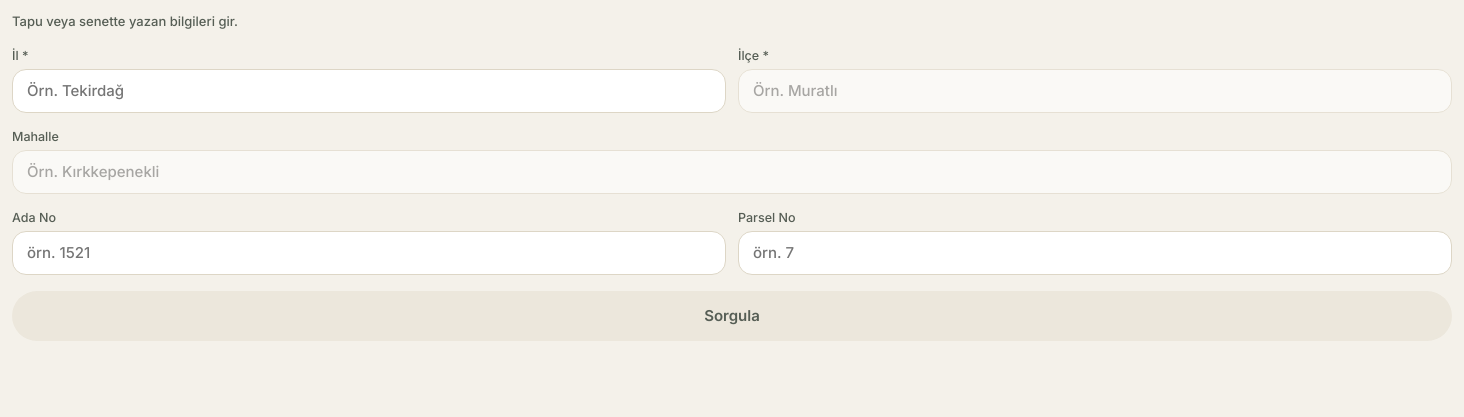
ManualParcelEntryForm › il metni secili degerden uzaklastirilip yeni bir il secilmezse ilce/mahalle secimleri ve listeleri kaskad olarak temizlenir
Type "Adana" into the dropdown labelled "İl *" at (369, 90), box x1=12 y1=68 x2=726 y2=112
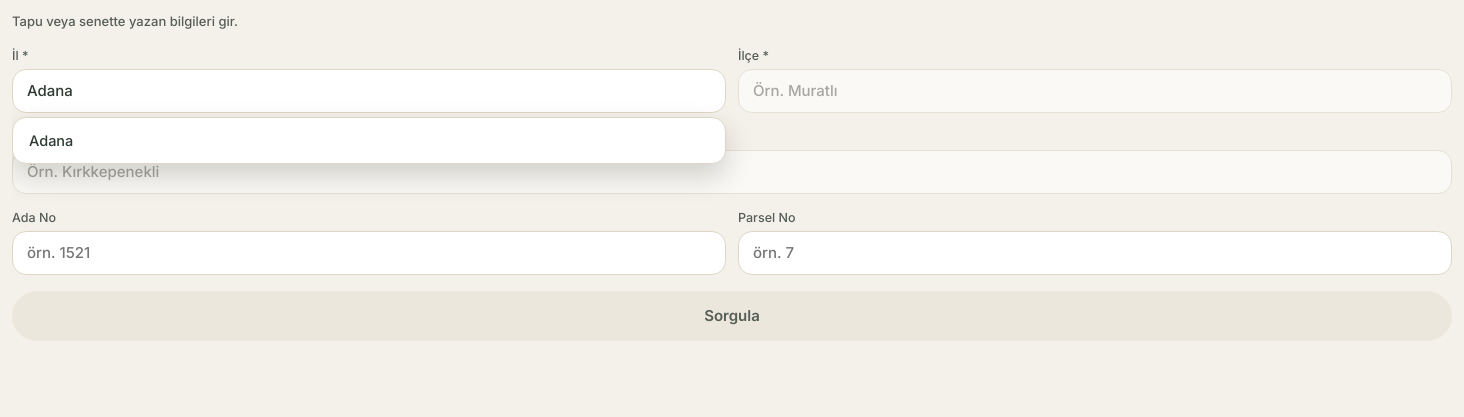
Click the option "Adana" at (51, 140), box x1=29 y1=132 x2=73 y2=148
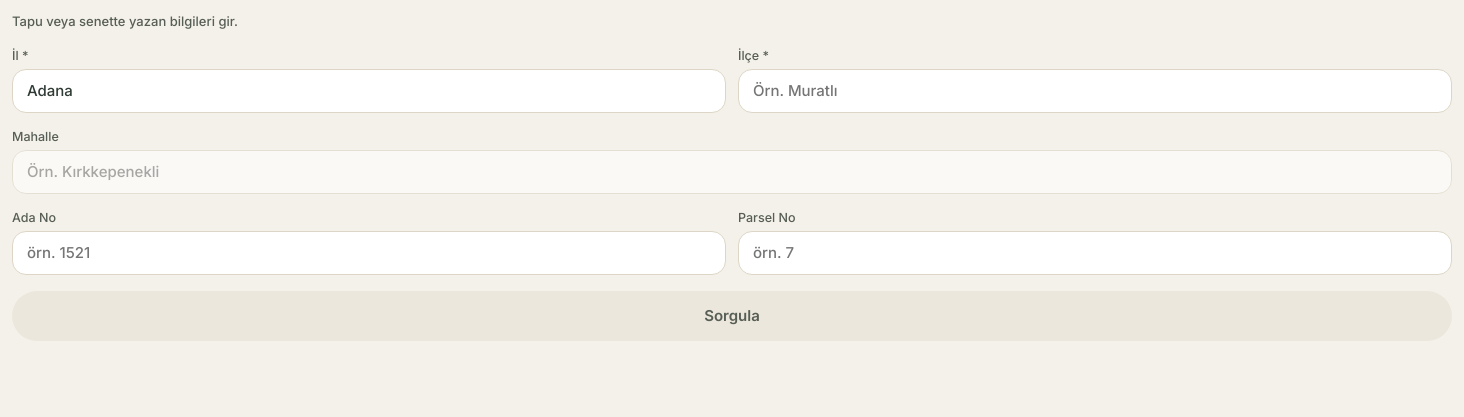
Now the dropdown labelled "İlçe *" is enabled
Type "Aladağ" into the dropdown labelled "İlçe *" at (1095, 90), box x1=738 y1=68 x2=1452 y2=112
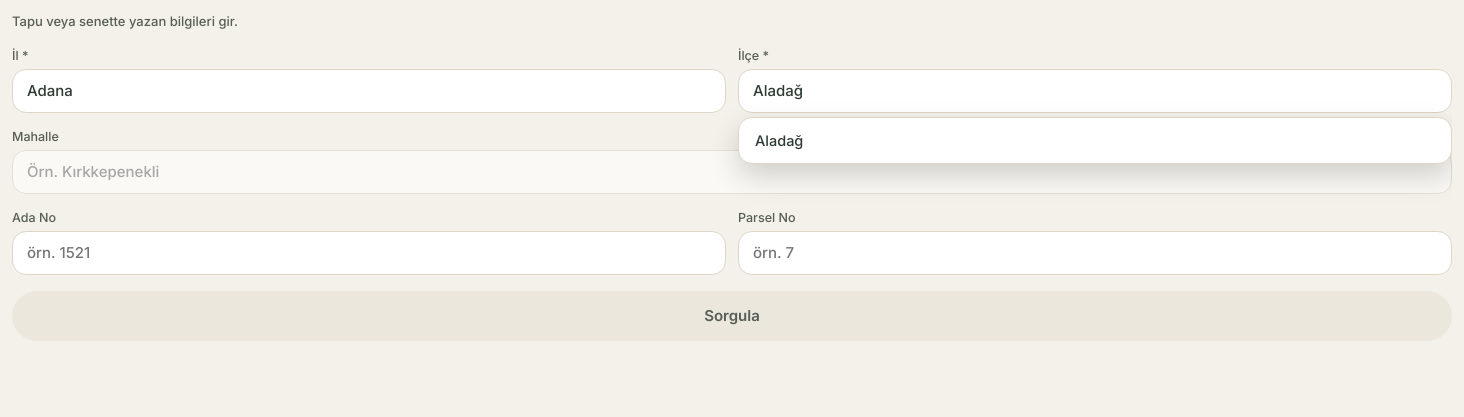
Click the option "Aladağ" at (779, 140), box x1=755 y1=132 x2=803 y2=148
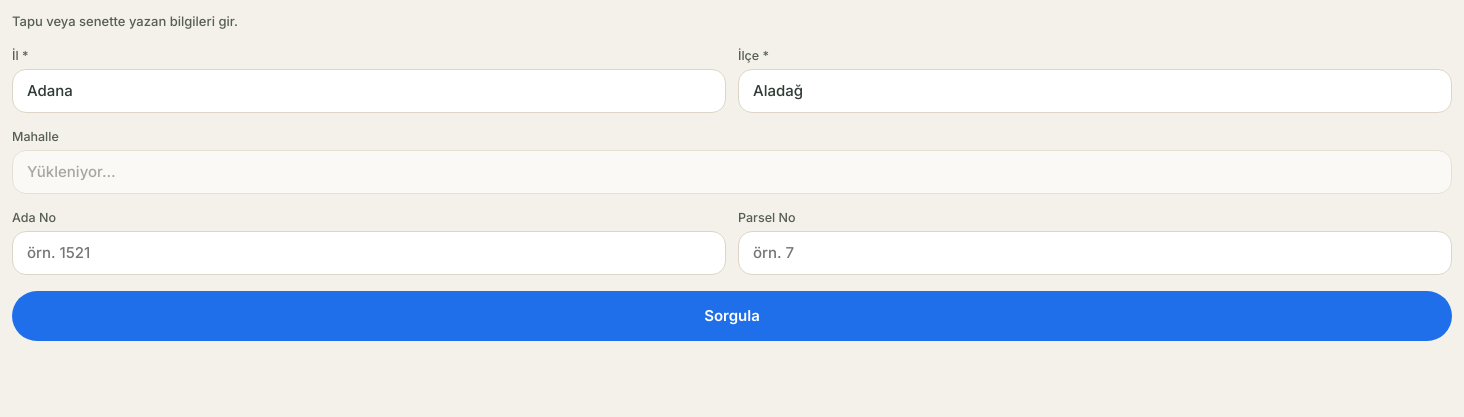
Now the button "Sorgula" is enabled, box x1=12 y1=290 x2=1452 y2=340
# Kullanici Il metnini "Adana"dan uzaklastirir ama yeni bir il SECMEZ.
Replace the text in the dropdown labelled "İl *" with "Ad" at (369, 90), box x1=12 y1=68 x2=726 y2=112
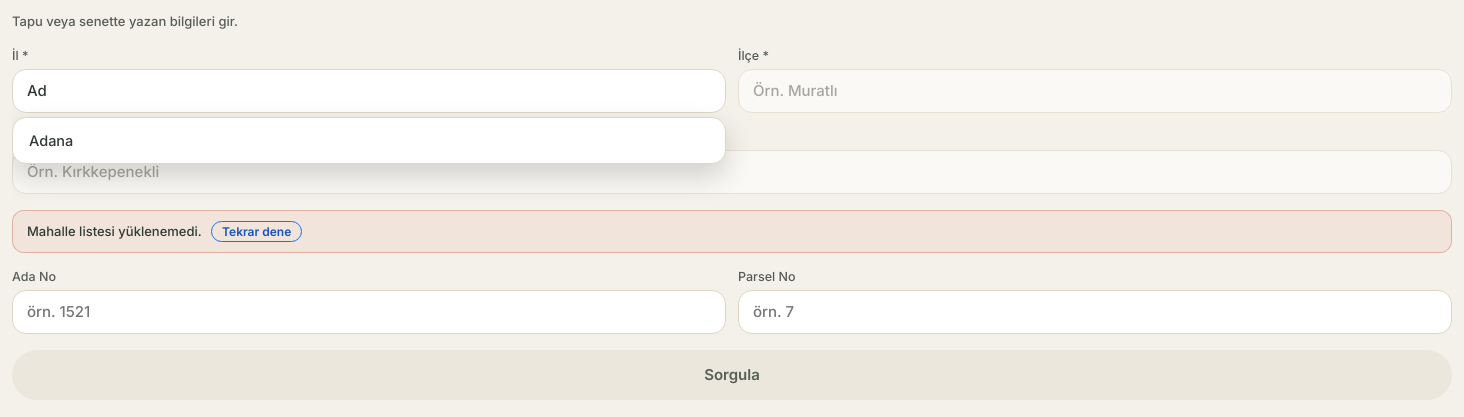
Now the dropdown labelled "İlçe *" is disabled, box x1=738 y1=68 x2=1452 y2=112
Now the button "Sorgula" is disabled, box x1=12 y1=350 x2=1452 y2=400
